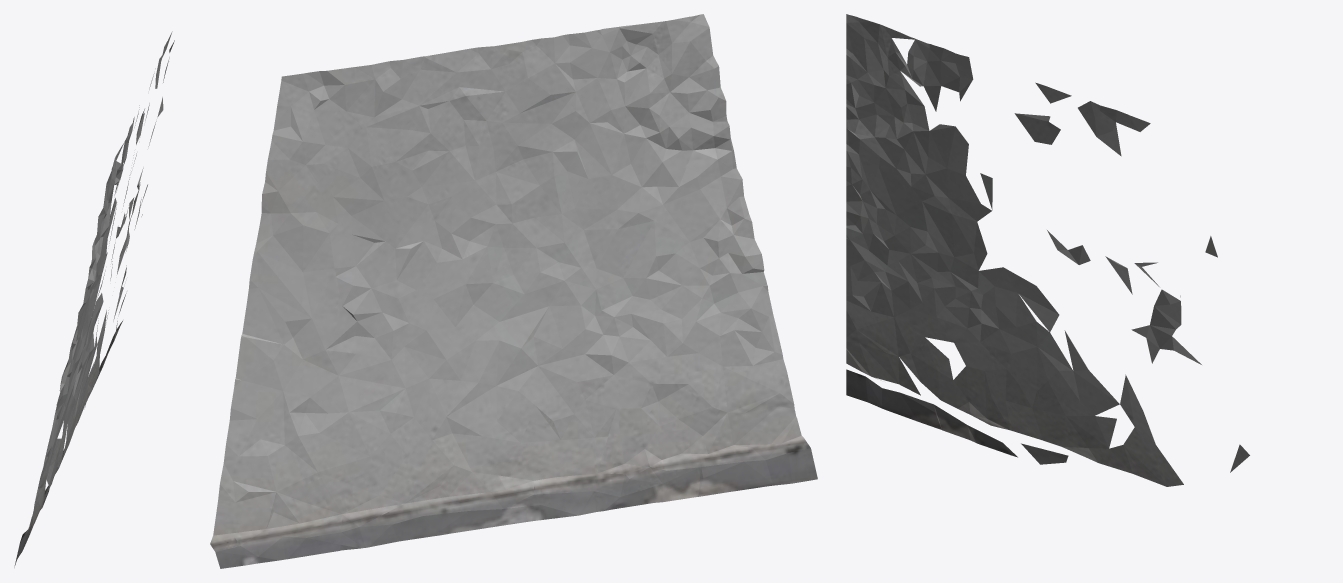
3 renders of one model, left to right at view 1: azimuth 30°, elevation 25°; view 2: azimuth 150°, elevation 25°; view 3: azimuth 270°, elevation 25°, orthographic. The views are drawn at different scales.
Bounding box in the file's own units: 0.7345 × 0.8374 × 0.8374.
3 materials, 3 textured.
